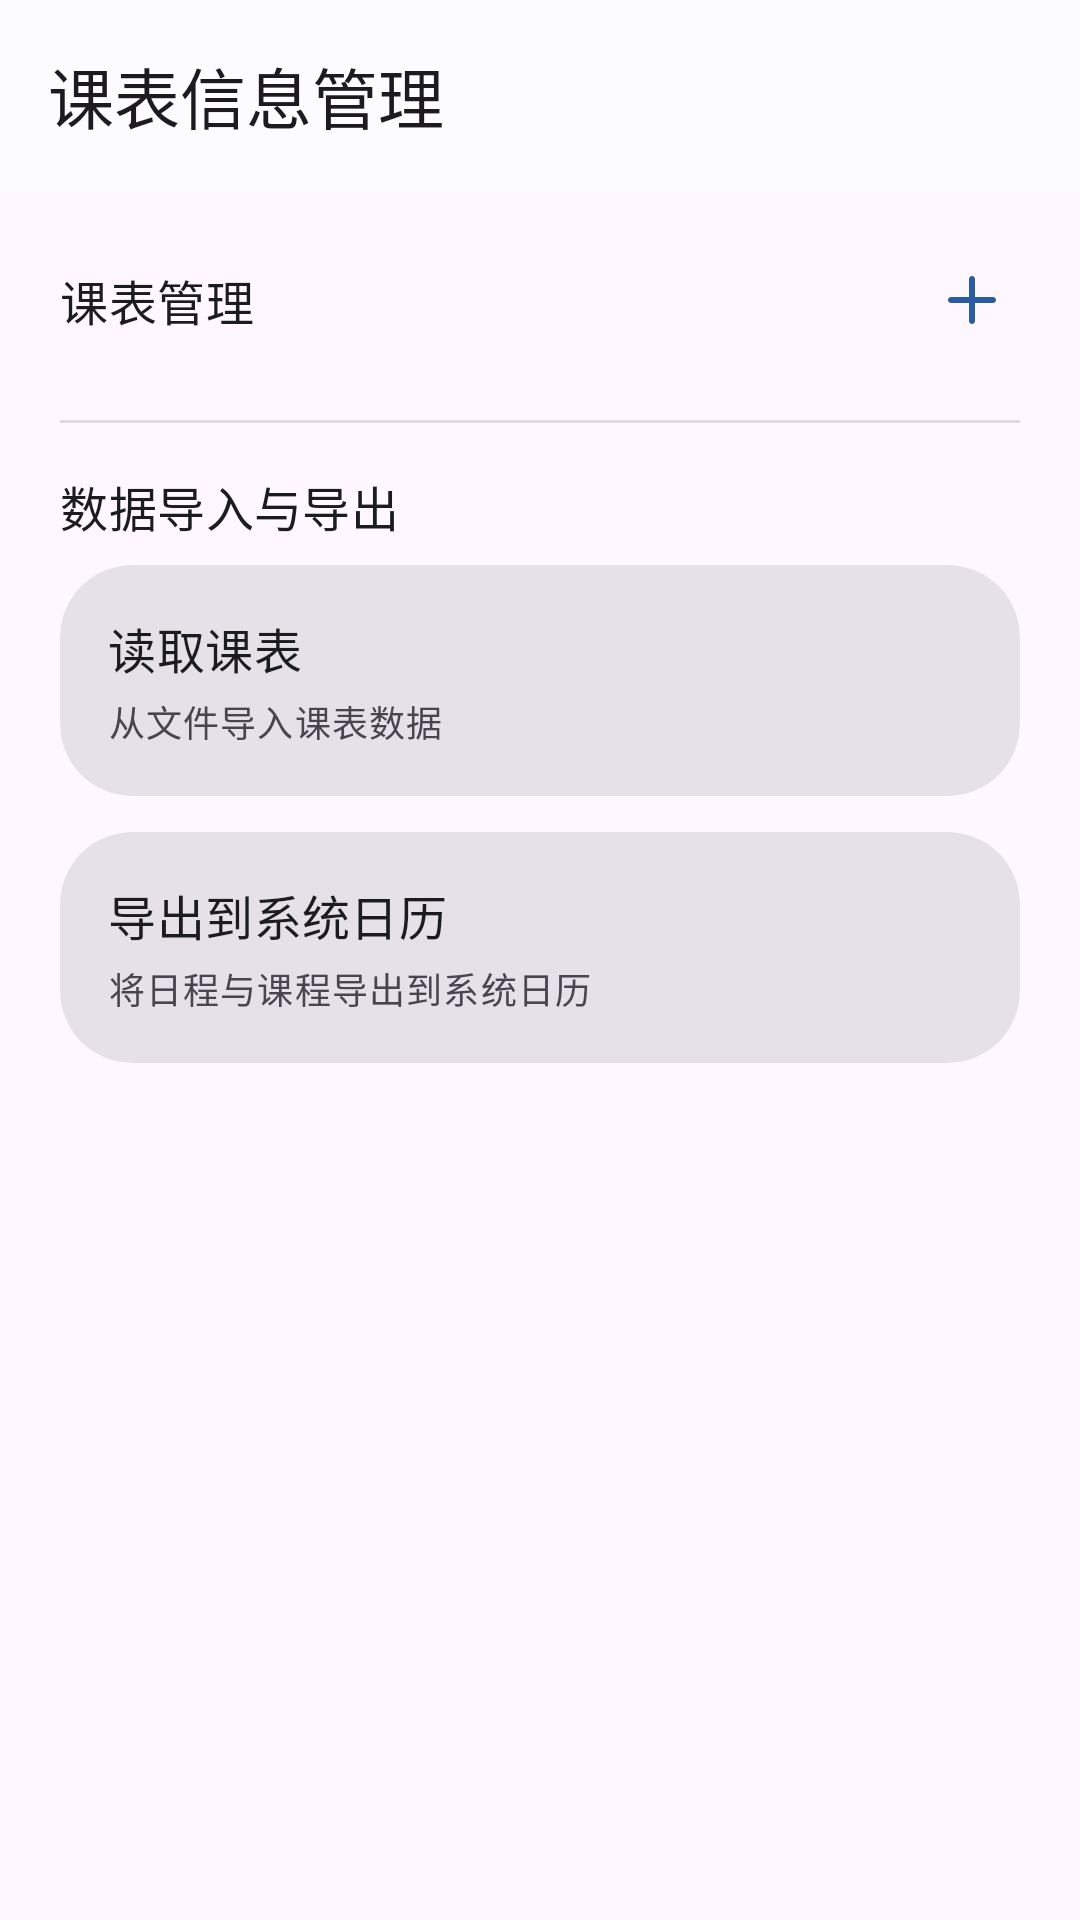

Icon bounding boxes for this 1080 × 1920 phone screenshot, format box=[x1, y1, x2, y2]:
add: box=[948, 276, 996, 324]
